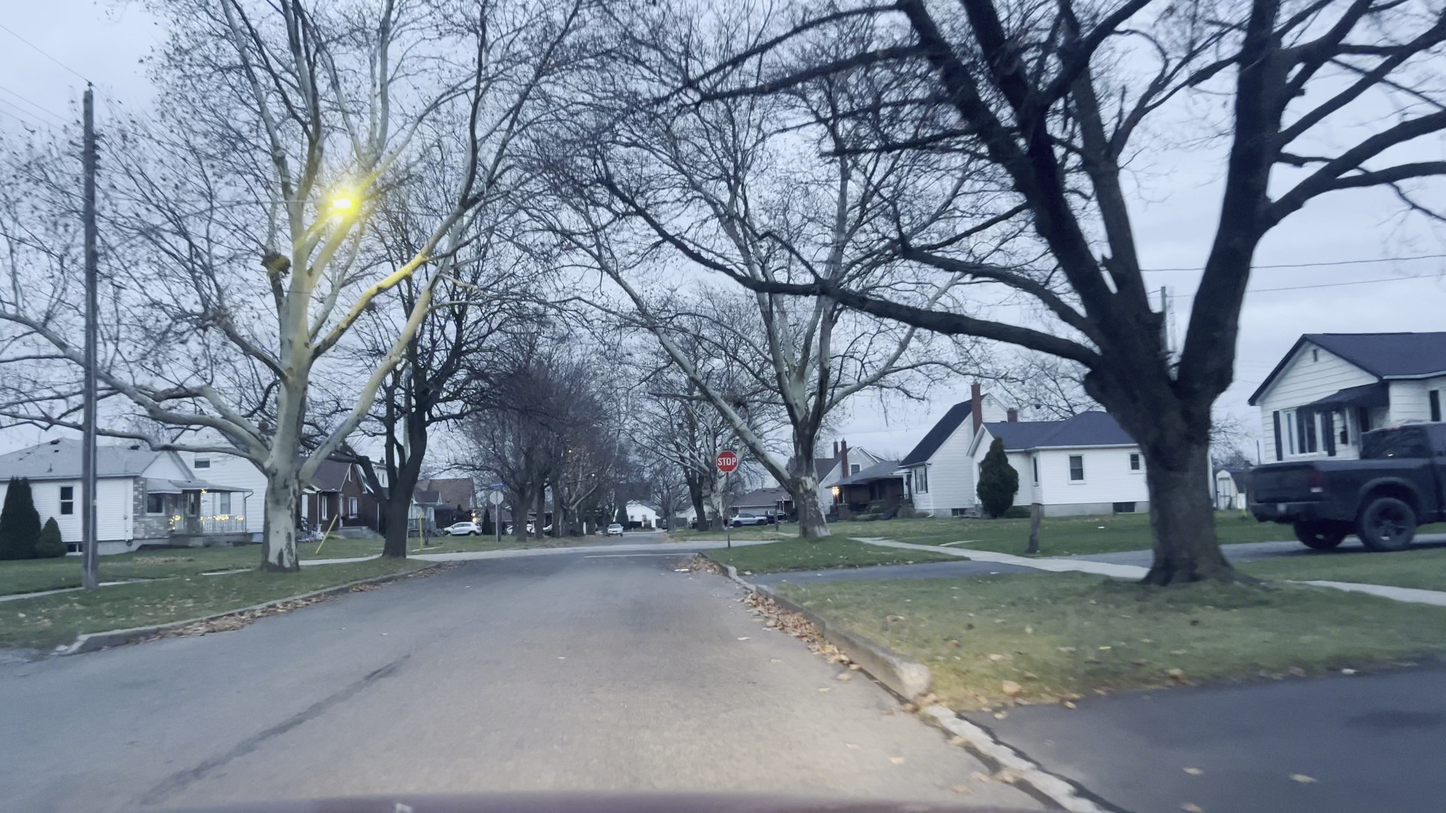cracks: (120, 649, 422, 807)
